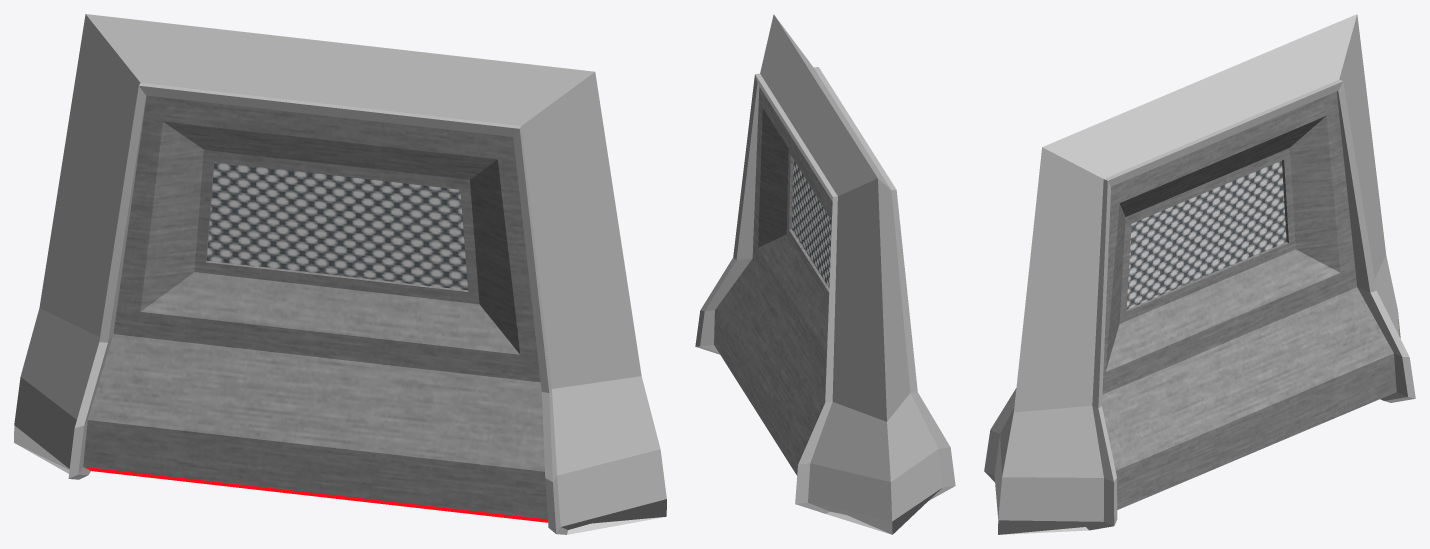
The model's file is ObstacleDiagonal.fbx.
3 renders of one model, left to right at view 1: azimuth 30°, elevation 25°; view 2: azimuth 150°, elevation 25°; view 3: azimuth 270°, elevation 25°, orthographic. The views are drawn at different scales.
Visible parts, largest first — view 1: ObstacleDiagonal; view 2: ObstacleDiagonal; view 3: ObstacleDiagonal.
Boxes of the visible parts, box(x1,y1,x2,y2) form: ObstacleDiagonal: box(14, 14, 666, 534); ObstacleDiagonal: box(695, 14, 955, 534); ObstacleDiagonal: box(984, 14, 1415, 534).
Size of the model in its own units: 229 by 216 by 229.
